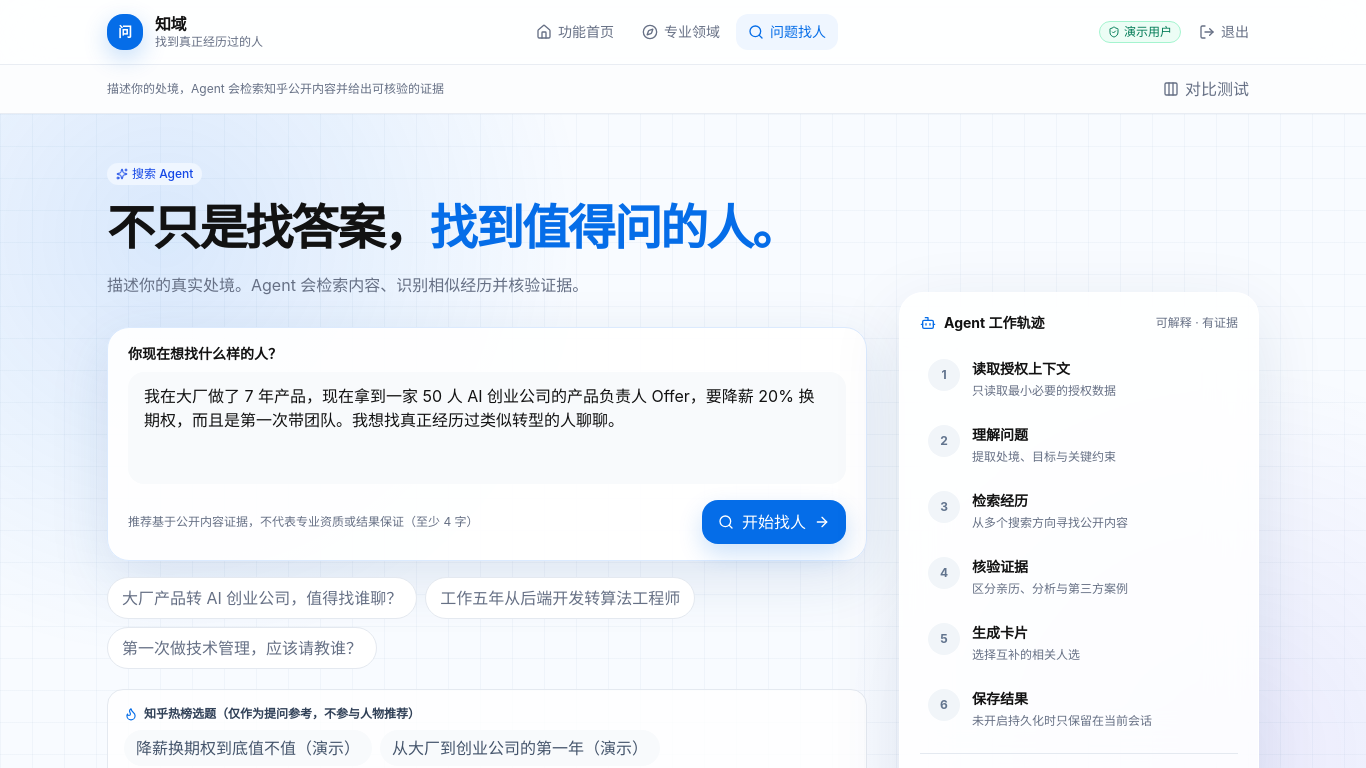
it: 搜索结果 → 会话跳转 › 点击「与 TA 聊聊」创建会话并跳转到聊天页
Step 1. Click the button "开始找人" → coordinates (774, 522), box 702,500 -> 846,544
(page scrolled)
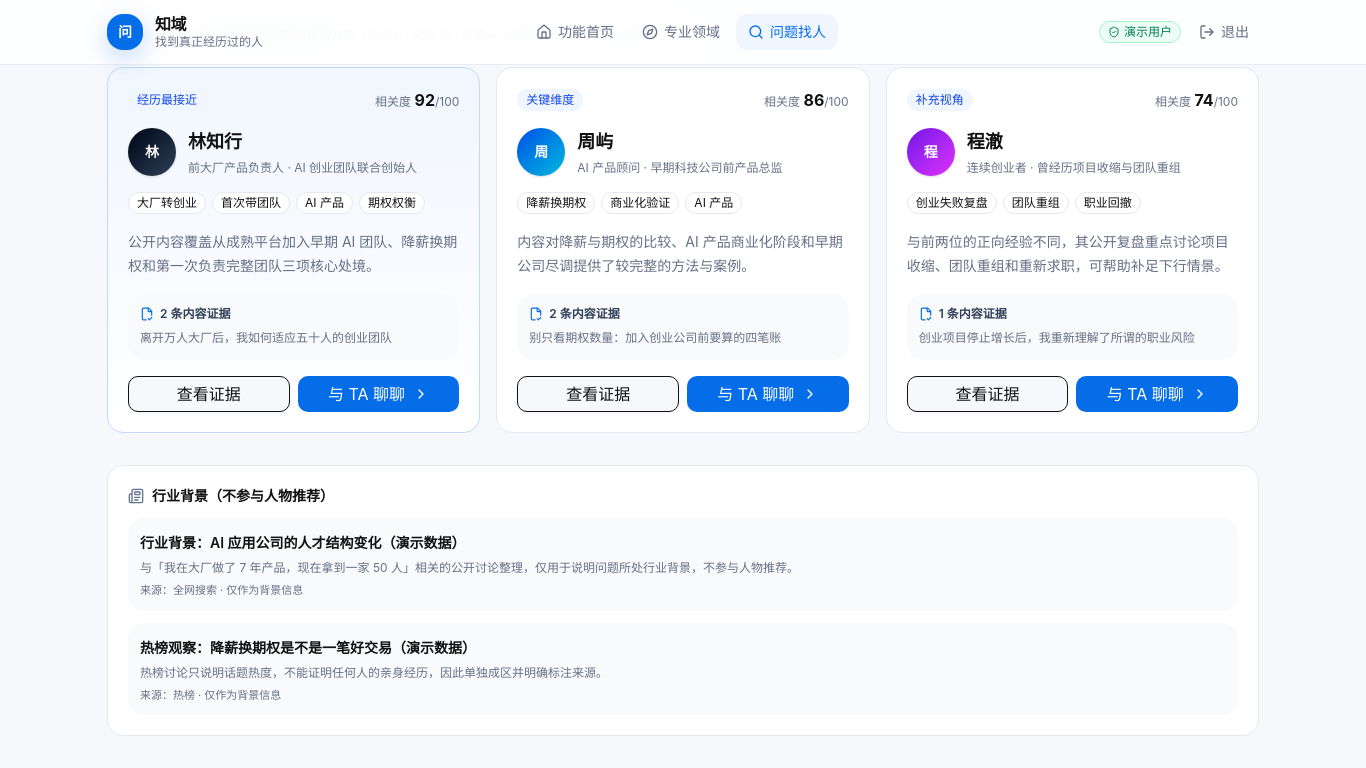
Expected: the text "林知行" is shown, 188,131 -> 242,152
Step 2. Click the button "与 TA 聊聊" below "离开万人大厂后，我如何适应五十人的创业团队" → coordinates (379, 394), box 298,376 -> 459,412
(page scrolled)
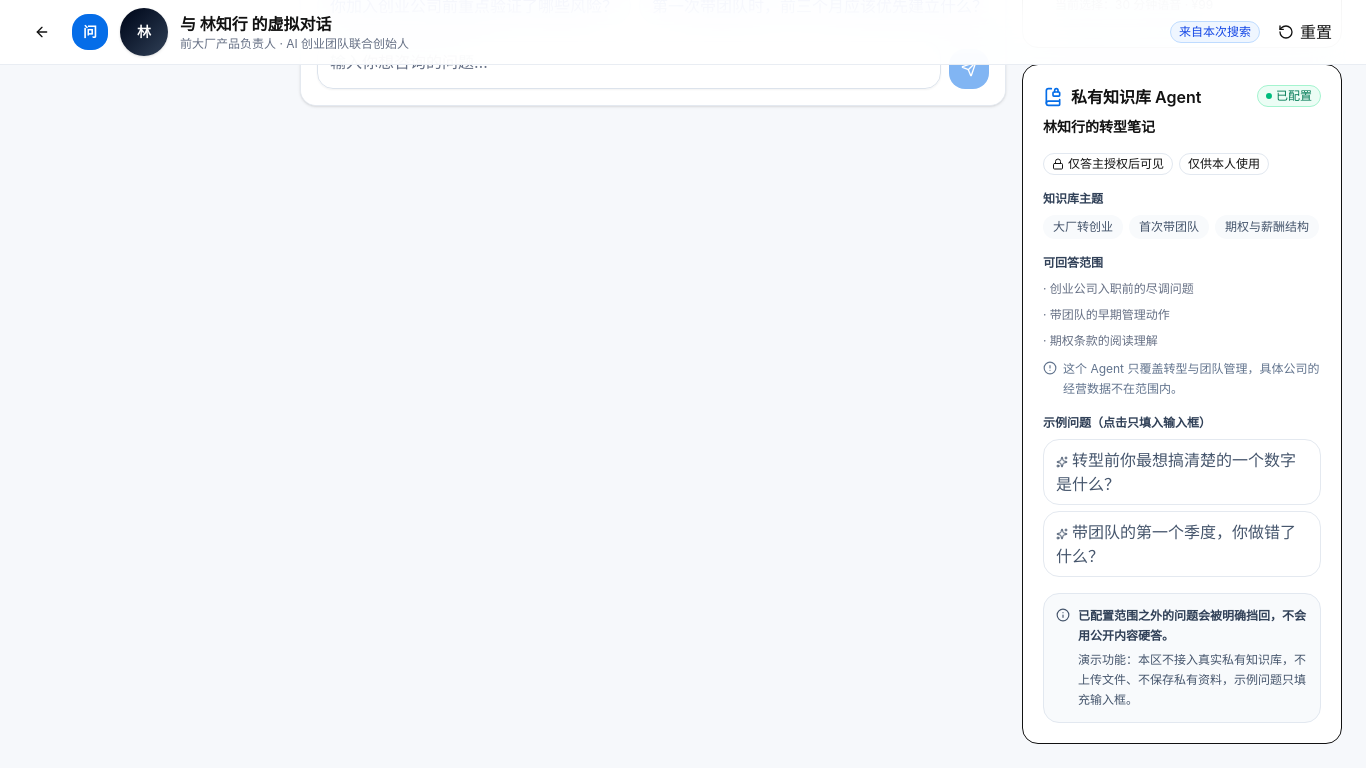
Expected: the text "与 林知行 的虚拟对话" is shown, 180,14 -> 332,34
